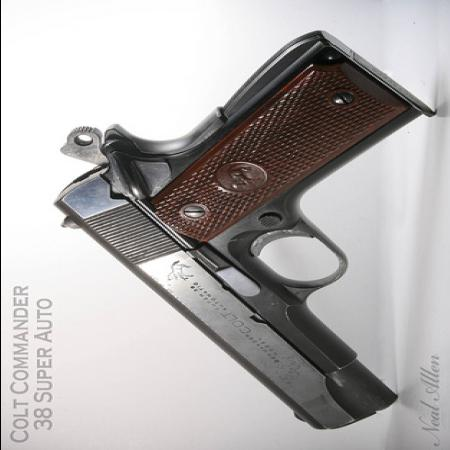Pistol: (49, 32, 436, 432)
